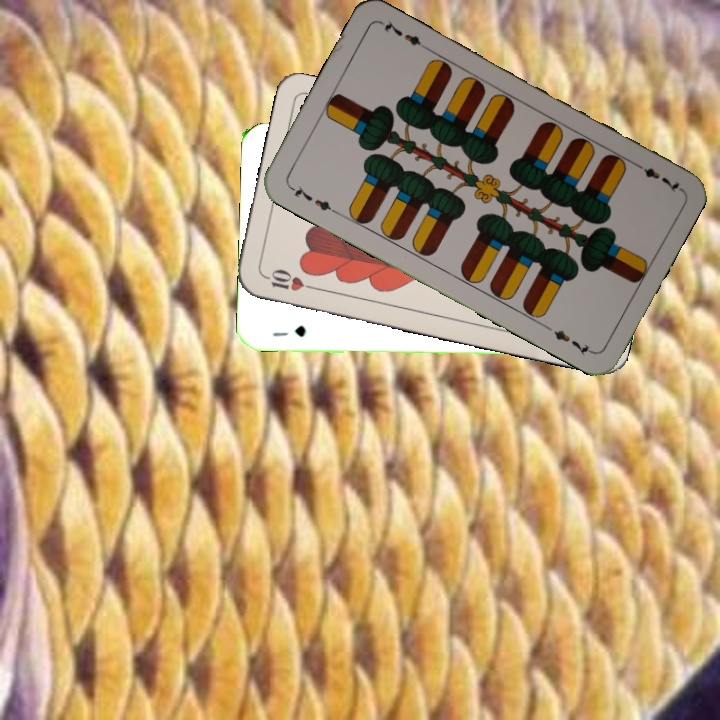E7: (629, 158, 684, 196), (285, 182, 340, 217)
GU: (269, 322, 308, 340)
H10: (260, 265, 319, 294)
